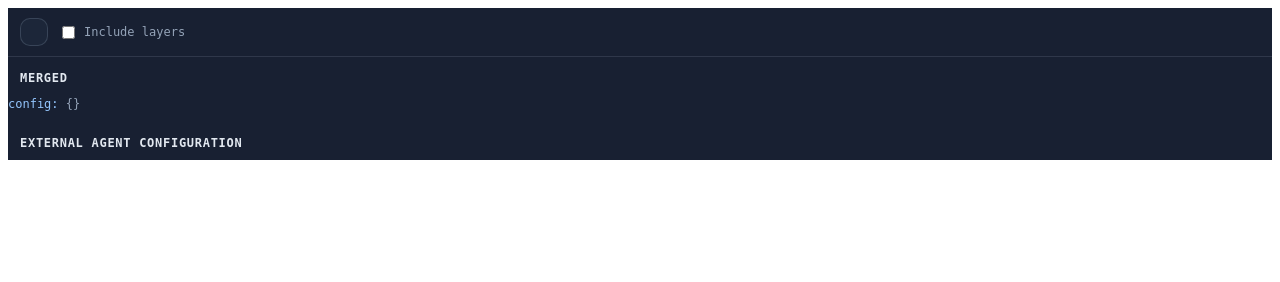
it: CodexConfigViewer › opens the existing external-agent import surface from the config viewer
Click the element with class "codex-config-section-header" showing "External agent configuration": click(131, 143) x1=20 y1=136 x2=242 y2=150
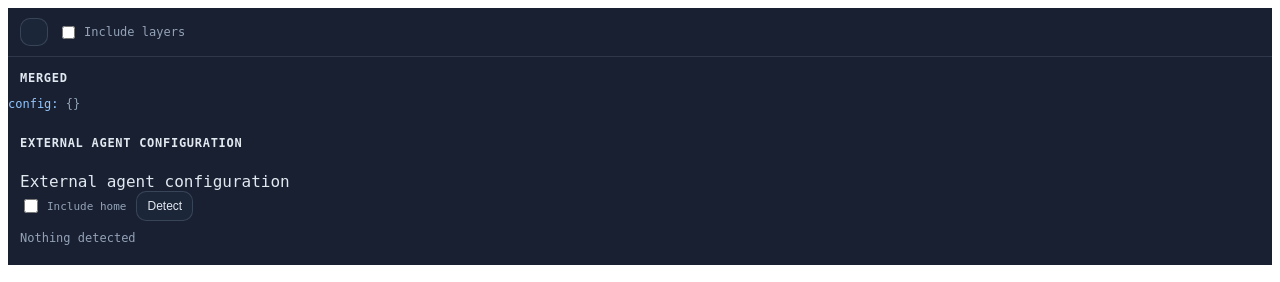
Check: the text "Detect" is shown, box x1=136 y1=191 x2=193 y2=221
